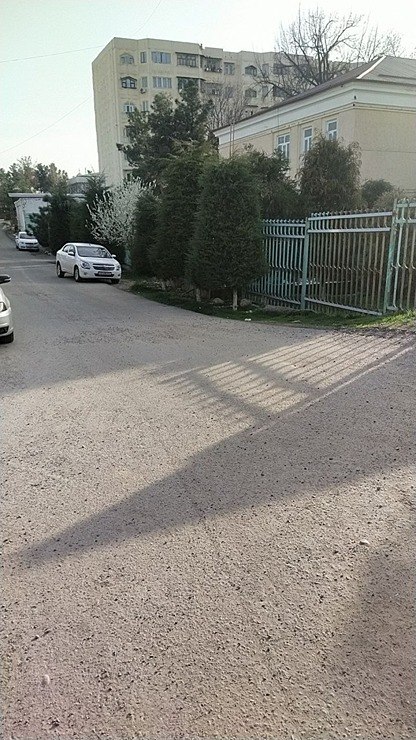car: (47, 241, 118, 289), (14, 228, 43, 252)
tree: (187, 172, 288, 297)
